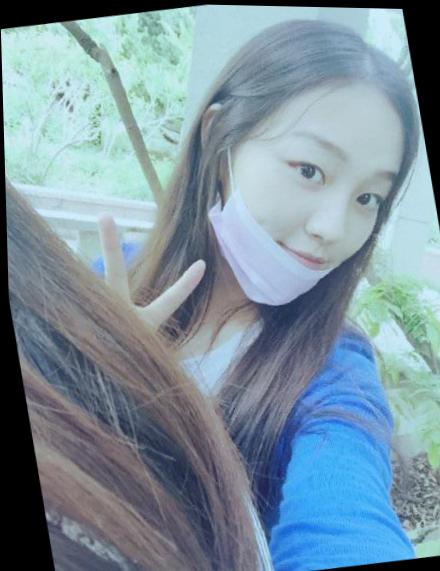WRONG: (211, 108, 410, 306)
